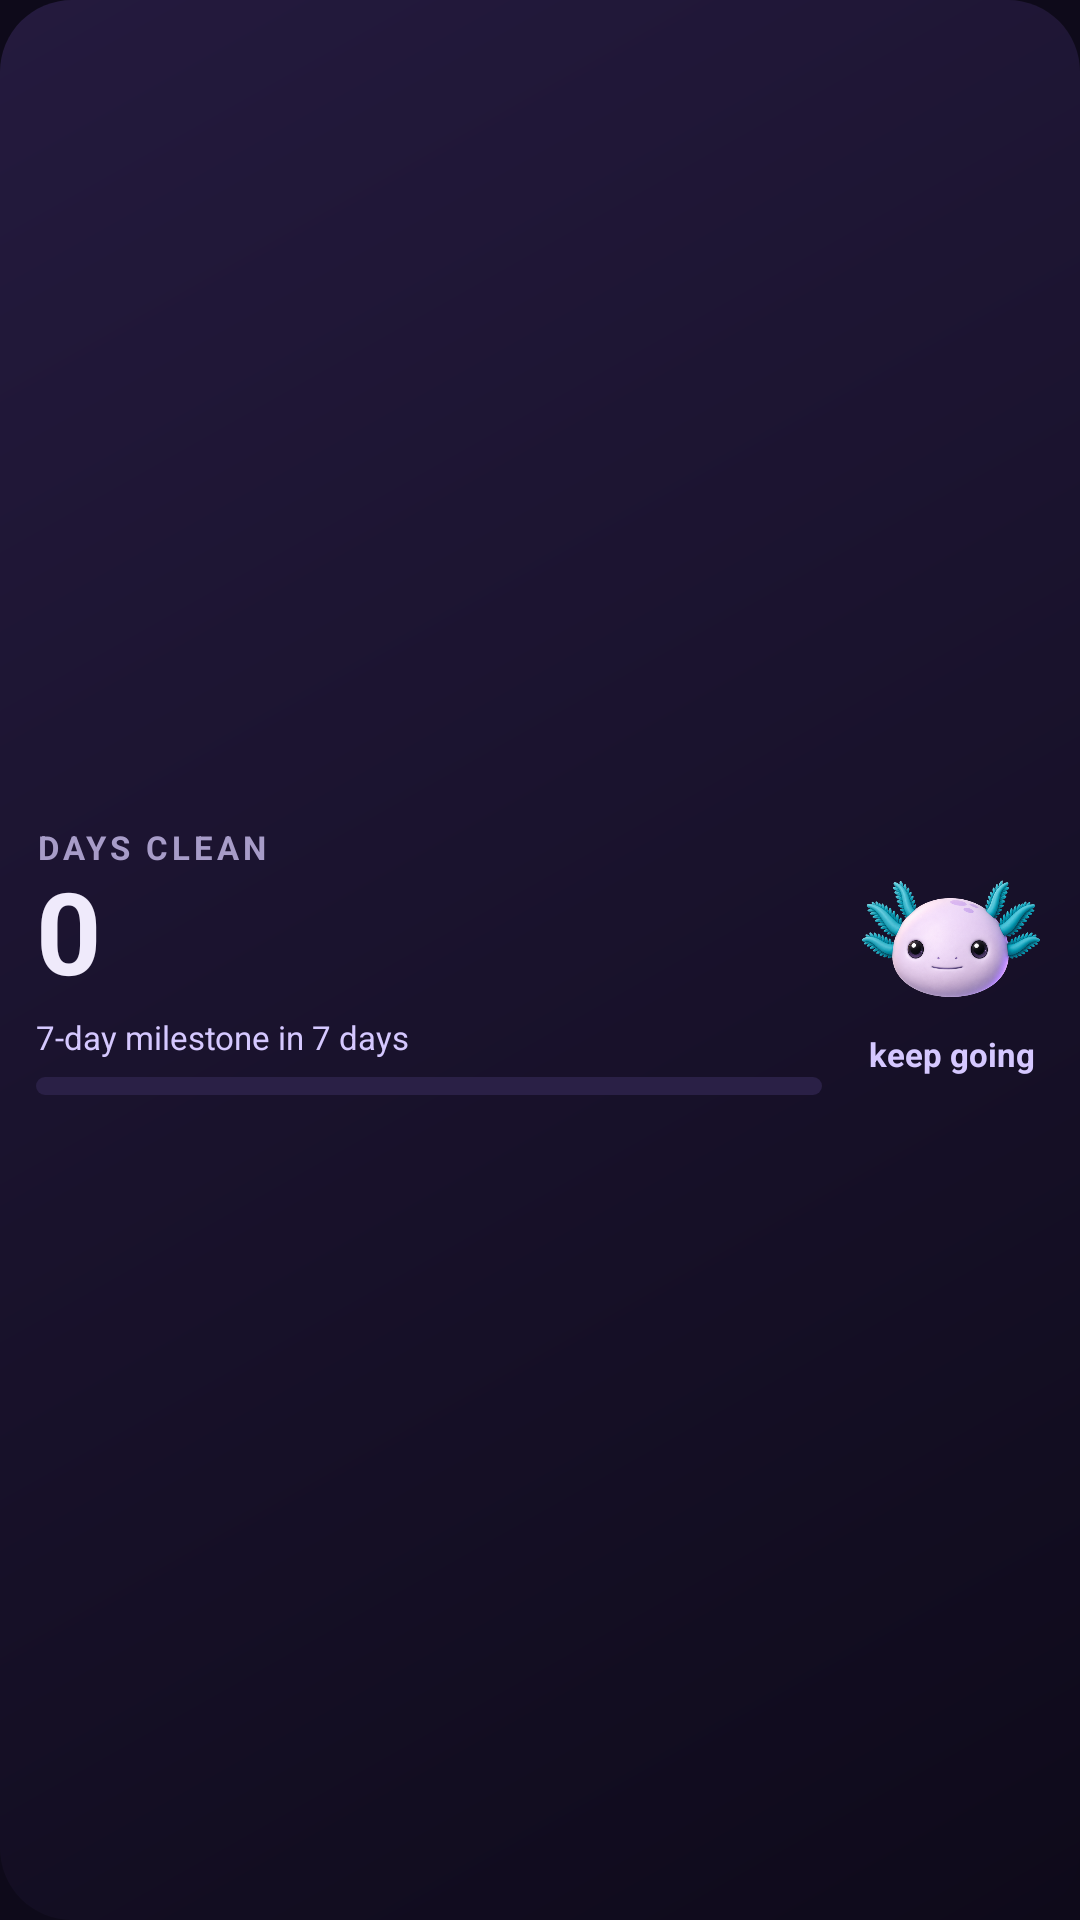

Named icons in this screenshot (1080px x 1920px) and their centers, [x,y]:
Cal the axolotl: [951,938]
